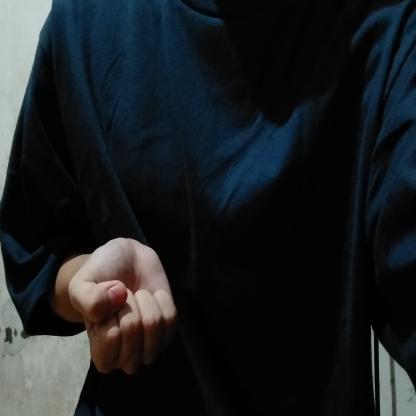where: (37, 233, 198, 383)
